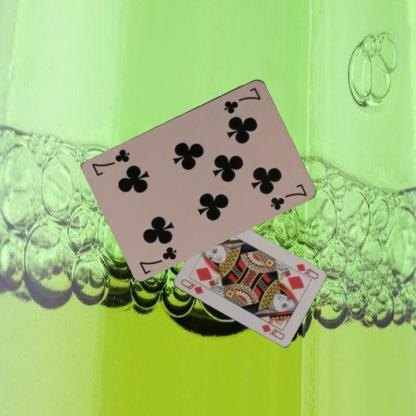7c: (137, 242, 178, 275), (221, 84, 262, 115)
Qd: (289, 262, 320, 282), (178, 276, 205, 297)
